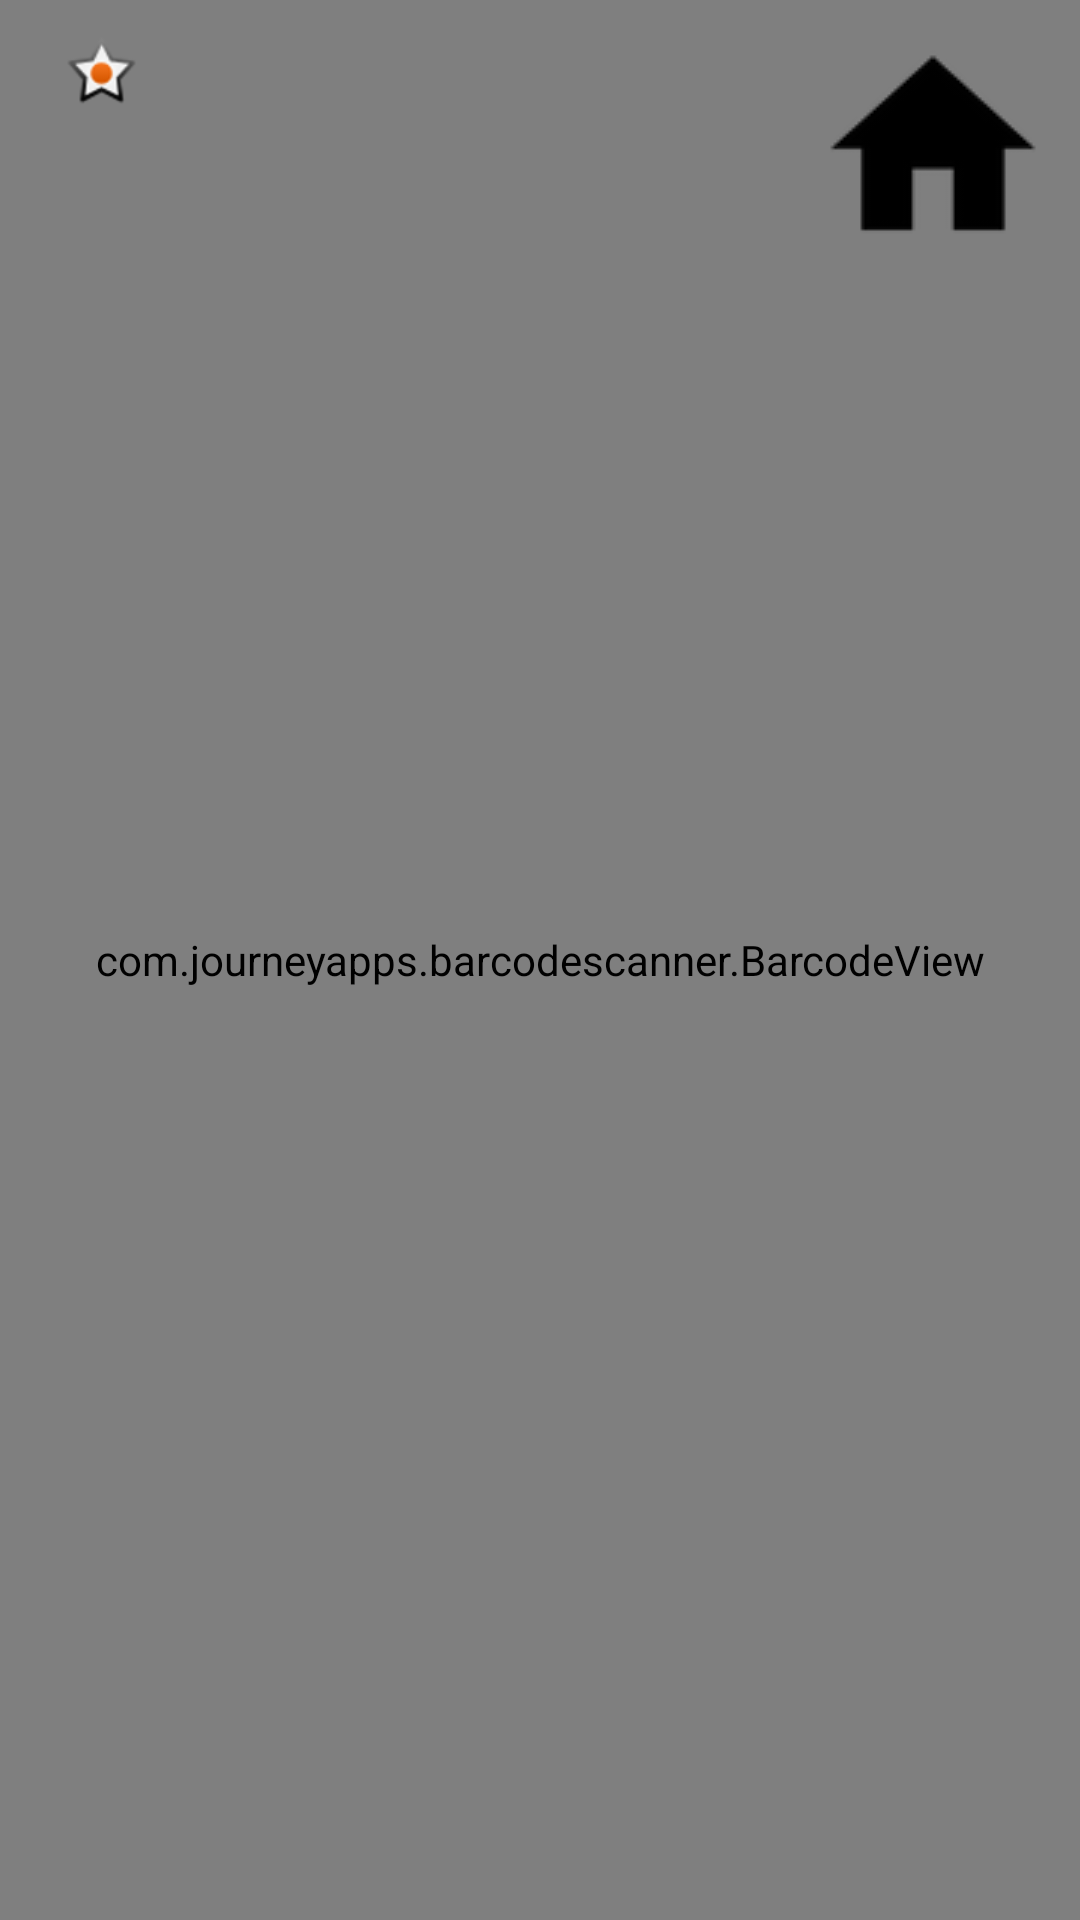

Point at icon controls on the screen. Image size 1080px x 1920px, points as point (x, y).
home: point (933, 143)
star on: point (101, 74)
